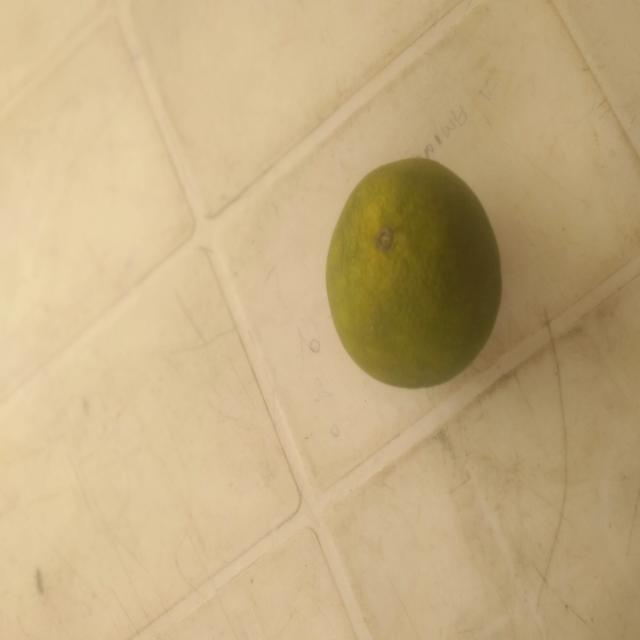Unripe: (312, 131, 516, 408)
